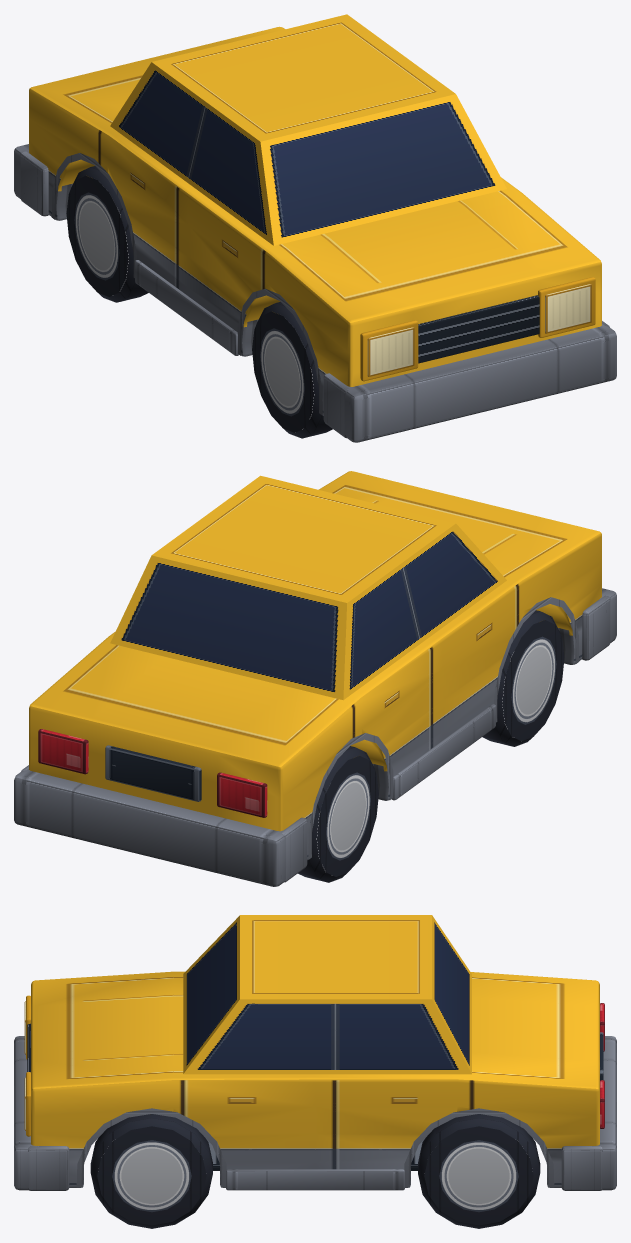
File: player-sedan.glb
3 views of the same model, one above another, from view 1: azimuth 30°, elevation 25°; view 2: azimuth 150°, elevation 25°; view 3: azimuth 270°, elevation 25° (orthographic). The views are drawn at different scales.
Parts seen in each view (by area): view 1: body, wheel-rear-left, wheel-front-left; view 2: body, wheel-front-left, wheel-rear-left; view 3: body, wheel-front-right, wheel-rear-right.
Boxes of the visible parts, <box> form: body: <box>14,14,616,442</box>; wheel-rear-left: <box>66,166,148,302</box>; wheel-front-left: <box>252,302,332,438</box>; body: <box>14,471,616,886</box>; wheel-front-left: <box>482,610,564,746</box>; wheel-rear-left: <box>298,746,378,882</box>; body: <box>14,915,616,1190</box>; wheel-front-right: <box>90,1114,212,1228</box>; wheel-rear-right: <box>418,1114,540,1228</box>.
Size of the model in its own units: 1.9 by 1.71 by 4.24.
Materials: 1 (1 with a texture image).
